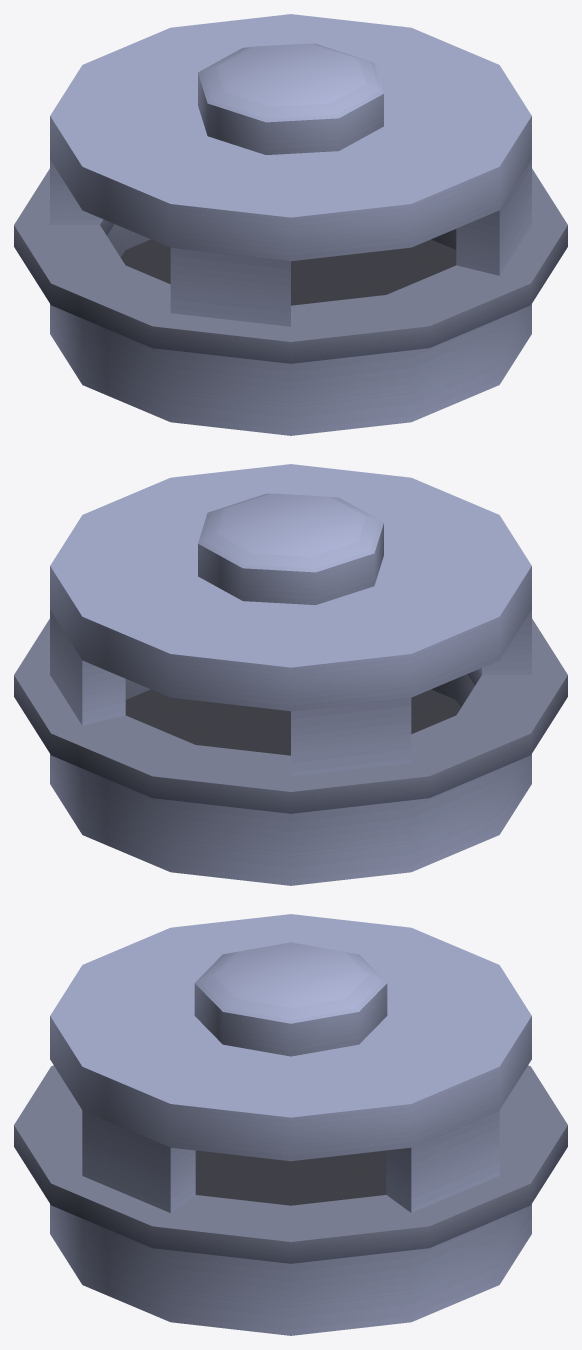
File: tower-defense-kit--tower-round-middle-c.glb
3 renders of one model, top to bottom at view 1: azimuth 30°, elevation 25°; view 2: azimuth 150°, elevation 25°; view 3: azimuth 270°, elevation 25°, orthographic.
Visible parts, largest first — view 1: tower-round-middle-c; view 2: tower-round-middle-c; view 3: tower-round-middle-c.
Boxes of the visible parts, bbox=[...] form: tower-round-middle-c: bbox=[14, 14, 567, 435]; tower-round-middle-c: bbox=[14, 464, 567, 885]; tower-round-middle-c: bbox=[14, 914, 567, 1335].
Bounding box in the file's own units: 1.15 × 0.6 × 1.15.
1 material, 1 textured.
